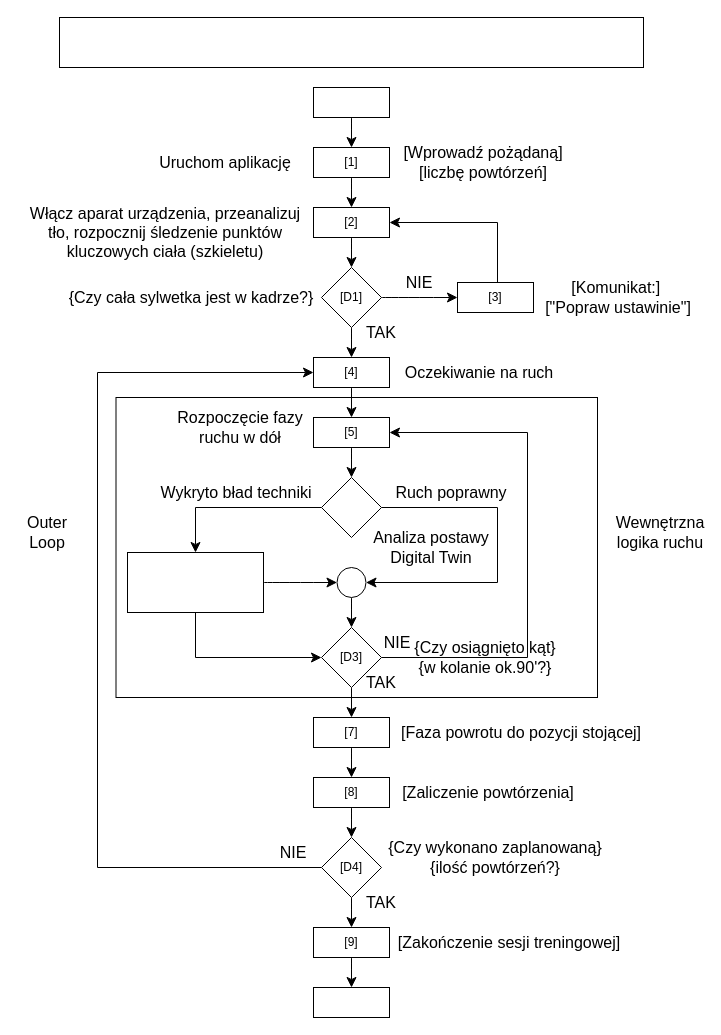
Some shapes in this 721 by 1035 pixel diagram are drawn without their labels. The centre of each missing label's shape, as x and y in pixels:
[6] KOMUNIKAT np. COFNIJ KOLANO: (195,582)
[D2]: (351,507)
KONIEC: (351,1002)
START: (351,102)
ZAAWANSOWANY ALGORYTM TRENINGU: WYKROKI Z DIGITAL TWIN: (351,42)
